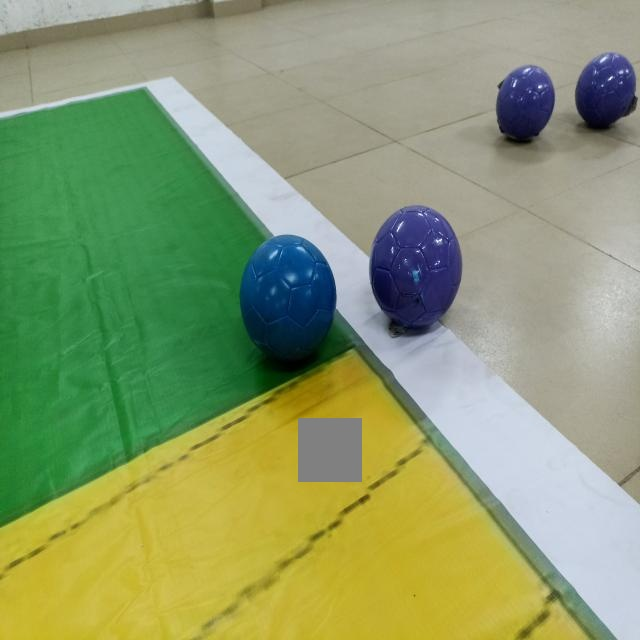blue_ball: (243, 233, 336, 354)
purple_ball: (373, 205, 461, 334), (577, 52, 639, 131), (500, 67, 554, 146)
